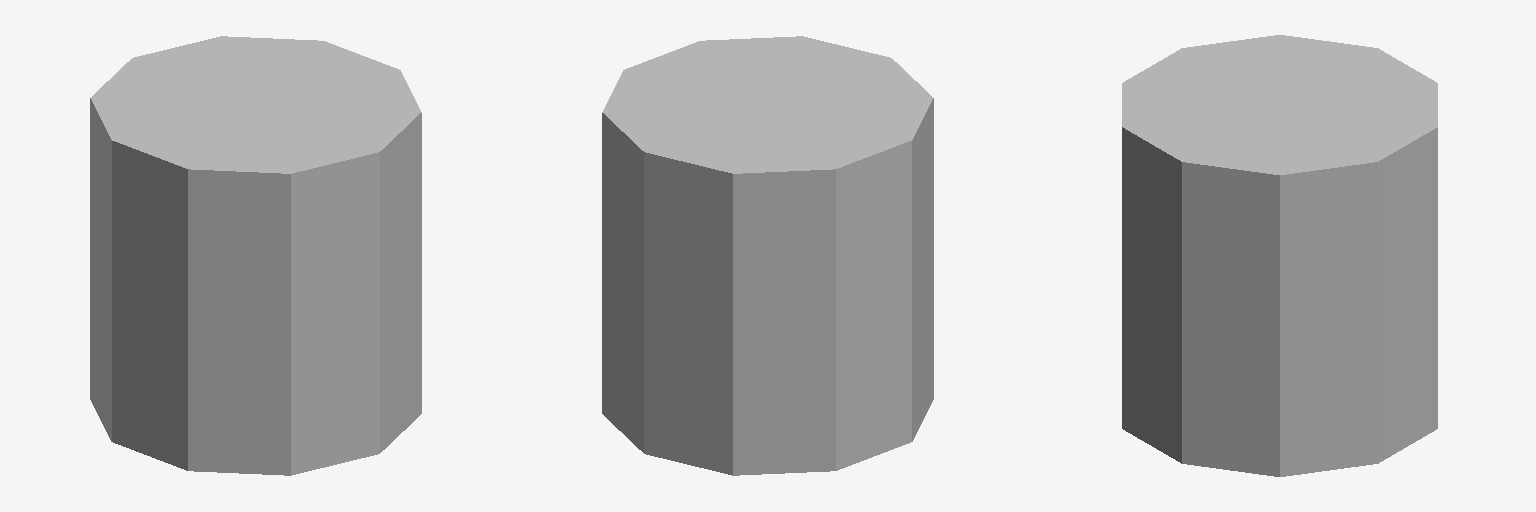
The model's file is lowRes_Cylinder.obj.
The picture shows the model from 3 angles: view 1: azimuth 30°, elevation 25°; view 2: azimuth 150°, elevation 25°; view 3: azimuth 270°, elevation 25°; orthographic projection.
Bounding box in the file's own units: 1 × 1 × 0.9511.